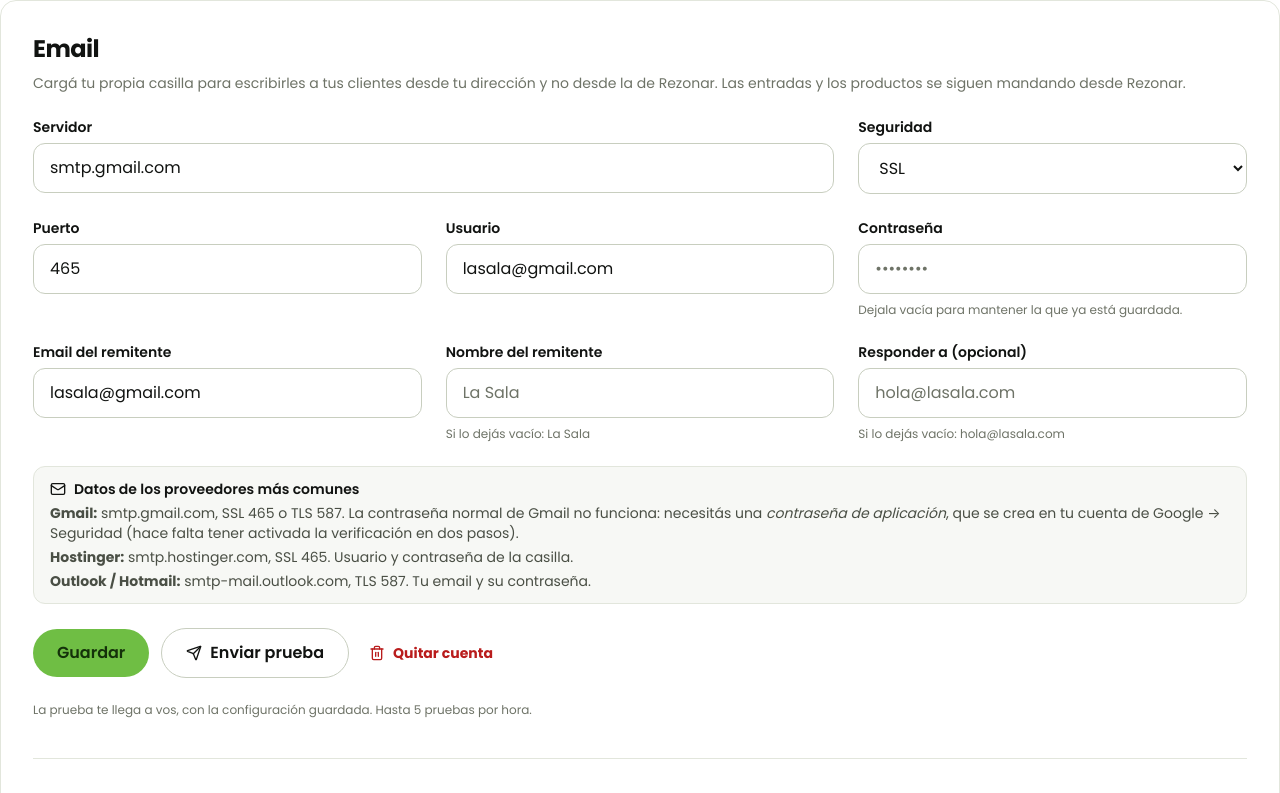
Test: SeccionEmail › la prueba exitosa avisa a dónde se mandó
Click the button "Enviar prueba" at (255, 653), box x1=161 y1=628 x2=349 y2=678
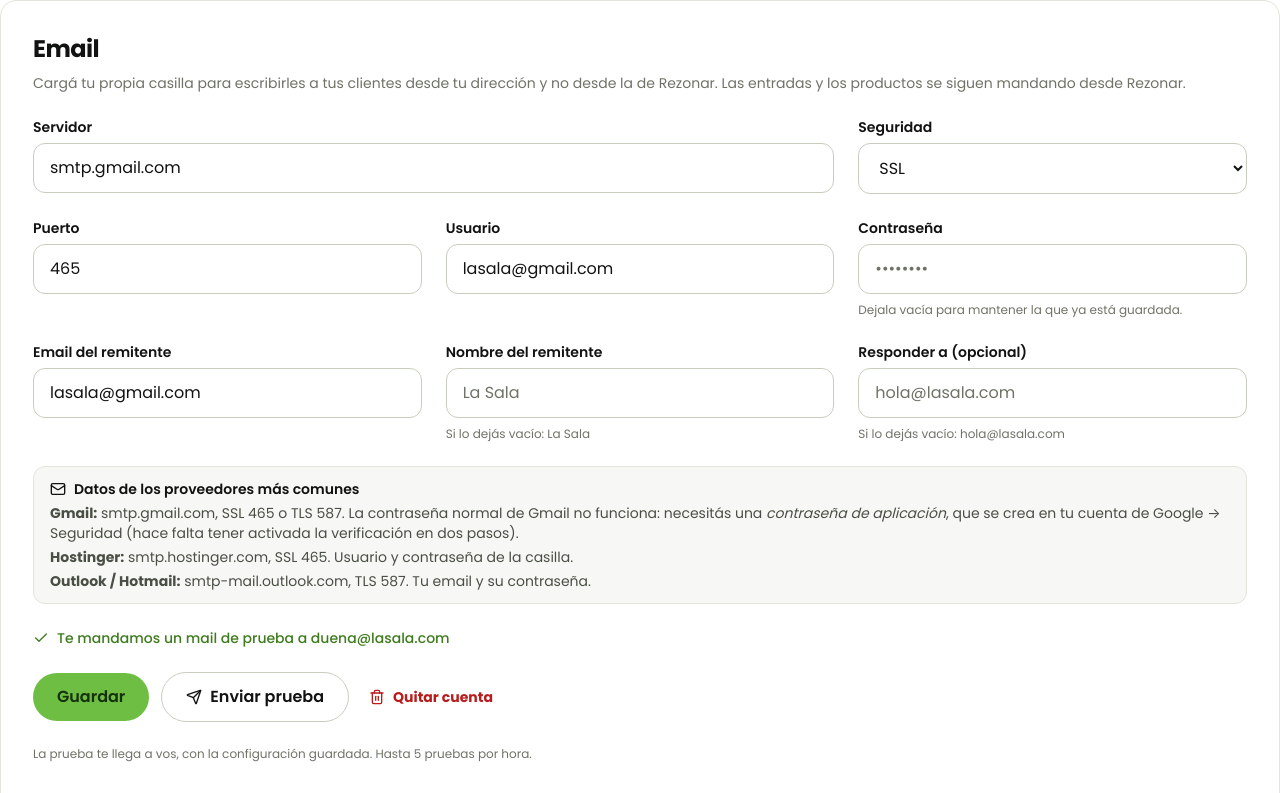
Now the message shows "duena@lasala.com", box x1=57 y1=628 x2=450 y2=648
